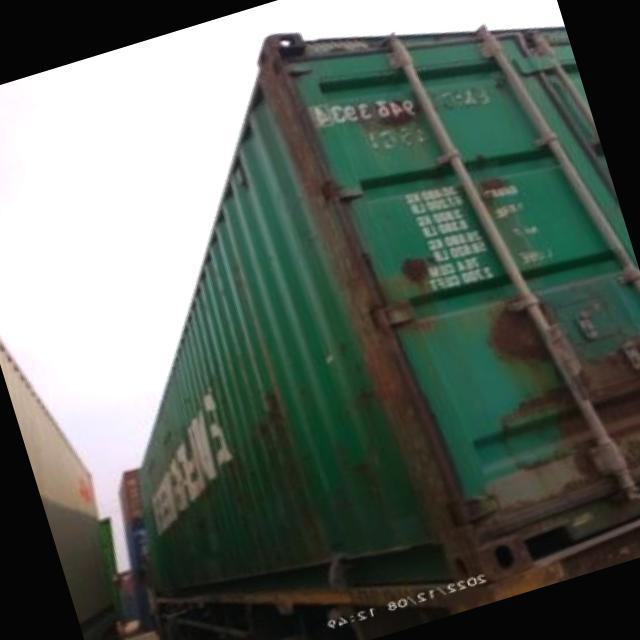rust: (266, 56, 460, 556), (246, 401, 309, 491), (162, 545, 250, 594), (535, 397, 590, 474), (590, 338, 640, 421), (491, 303, 546, 367), (365, 103, 421, 160), (468, 168, 501, 211), (402, 254, 434, 286)
